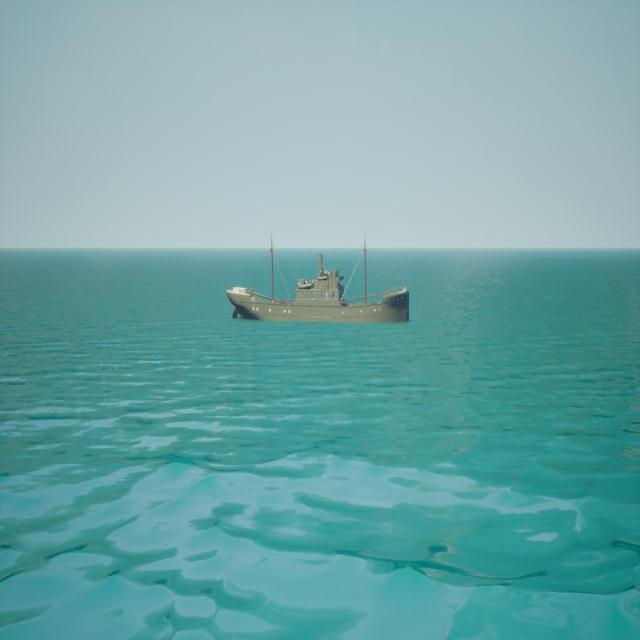fishing ship: (228, 236, 413, 324)
